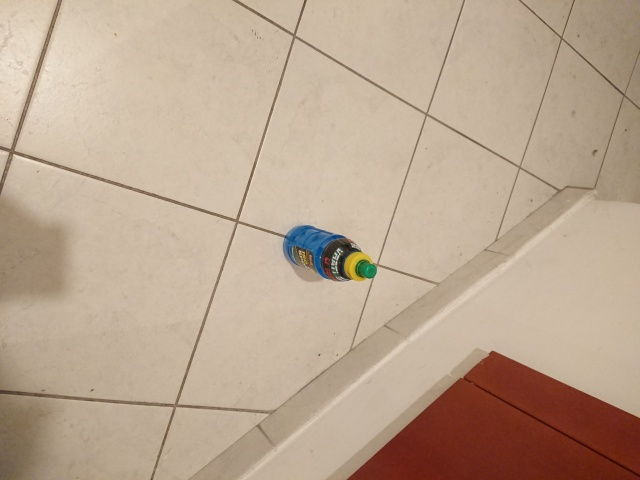Vindi Iso Sport Forest Strawberries 500mL: (281, 223, 378, 282)
